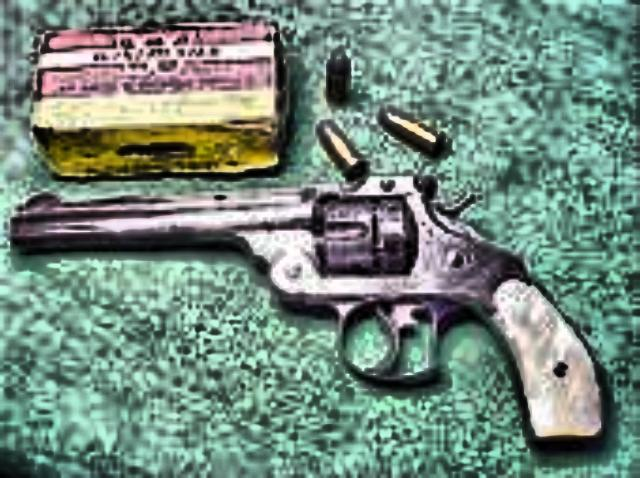pistol: (4, 174, 606, 444)
